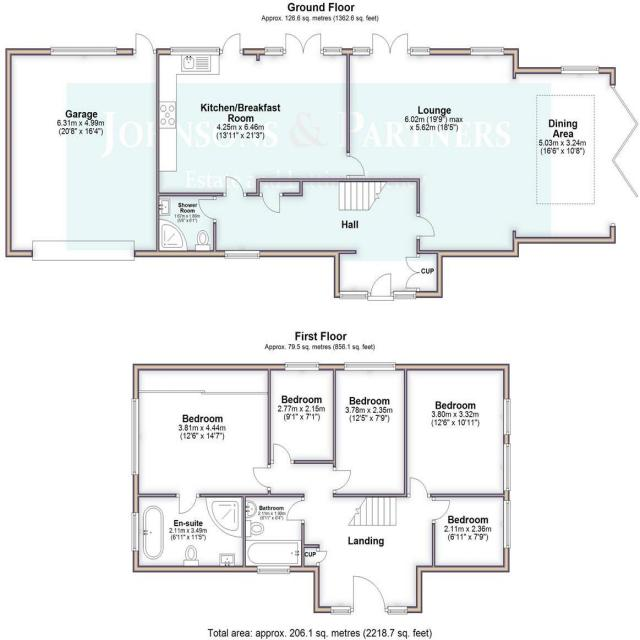DOOR: (351, 573, 388, 615), (369, 272, 393, 299), (408, 474, 431, 500), (177, 492, 200, 517), (430, 497, 452, 523), (251, 465, 272, 491), (196, 197, 218, 221), (345, 154, 367, 178), (271, 441, 293, 465), (331, 468, 353, 492), (285, 498, 307, 522), (134, 31, 155, 56), (415, 215, 437, 238), (225, 174, 246, 198), (261, 192, 282, 215), (222, 32, 241, 55)
DOUBLE DOOR: (282, 30, 324, 56), (369, 29, 411, 54)
ROOM: (343, 30, 640, 258), (155, 30, 368, 197), (211, 173, 445, 300), (131, 361, 272, 516), (403, 364, 513, 498), (332, 362, 408, 499), (266, 361, 337, 466), (429, 491, 513, 573)
WINDOW: (129, 396, 141, 477), (50, 45, 118, 57), (501, 442, 513, 493), (343, 361, 398, 372), (501, 498, 512, 550), (169, 46, 221, 56), (560, 64, 600, 76), (283, 360, 321, 372), (130, 511, 141, 552), (254, 565, 292, 576), (501, 398, 512, 436), (224, 249, 261, 260), (470, 46, 505, 57), (339, 290, 369, 301), (392, 290, 418, 301), (386, 605, 408, 617), (329, 605, 352, 616), (410, 45, 431, 56), (264, 46, 284, 56), (352, 46, 370, 57), (323, 47, 342, 56)
